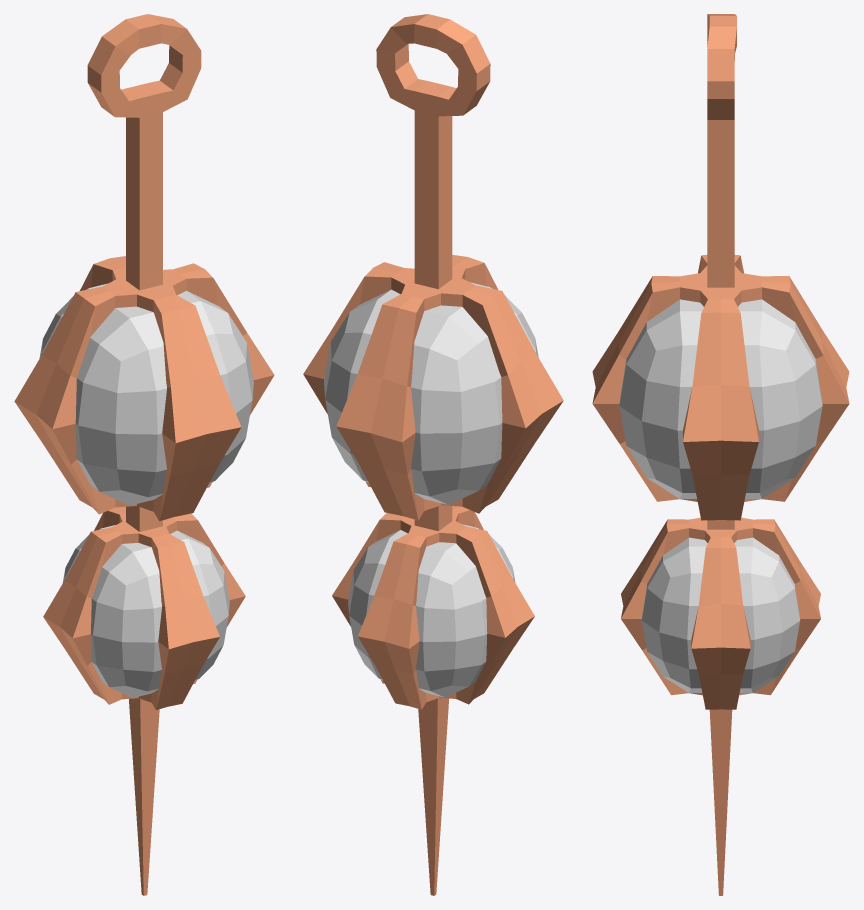
Rendered from syringe_sub.fbx.
3 renders of one model, left to right at view 1: azimuth 30°, elevation 25°; view 2: azimuth 150°, elevation 25°; view 3: azimuth 270°, elevation 25°, orthographic.
Visible parts, largest first — view 1: Cube.005, Cube.010, Cube.009, Cube.008, Cube.006, Cube.011, Cube.012, Cube.007; view 2: Cube.005, Cube.010, Cube.009, Cube.008, Cube.006, Cube.011, Cube.012, Cube.007; view 3: Cube.005, Cube.006, Cube.008, Cube.009, Cube.012, Cube.010, Cube.011, Cube.007.
Part boxes in pixels (left/top/right/bottom): Cube.005: left=39, top=283, right=253, bottom=505; Cube.010: left=87, top=14, right=201, bottom=290; Cube.009: left=80, top=256, right=241, bottom=521; Cube.008: left=14, top=263, right=274, bottom=514; Cube.006: left=62, top=525, right=229, bottom=697; Cube.011: left=94, top=506, right=219, bottom=709; Cube.012: left=43, top=513, right=245, bottom=704; Cube.007: left=126, top=506, right=162, bottom=895; Cube.005: left=324, top=282, right=538, bottom=504; Cube.010: left=376, top=14, right=490, bottom=289; Cube.009: left=336, top=255, right=498, bottom=520; Cube.008: left=303, top=262, right=563, bottom=513; Cube.006: left=348, top=524, right=515, bottom=697; Cube.011: left=357, top=506, right=483, bottom=709; Cube.012: left=332, top=513, right=534, bottom=704; Cube.007: left=414, top=505, right=452, bottom=895; Cube.005: left=619, top=299, right=822, bottom=498; Cube.006: left=641, top=537, right=800, bottom=692; Cube.008: left=682, top=255, right=759, bottom=520; Cube.009: left=592, top=272, right=849, bottom=501; Cube.012: left=691, top=520, right=750, bottom=709; Cube.010: left=707, top=14, right=736, bottom=287; Cube.011: left=621, top=517, right=820, bottom=695; Cube.007: left=707, top=520, right=734, bottom=895.
Bounding box in the file's own units: 30 × 113 × 30.
